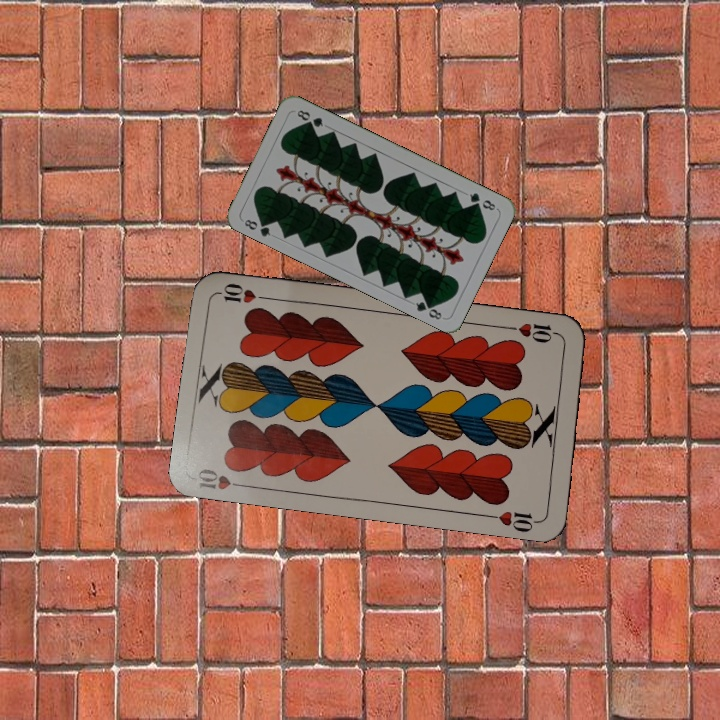G8: (465, 188, 498, 213), (240, 215, 273, 239)
H10: (194, 464, 251, 493), (504, 319, 563, 346)
